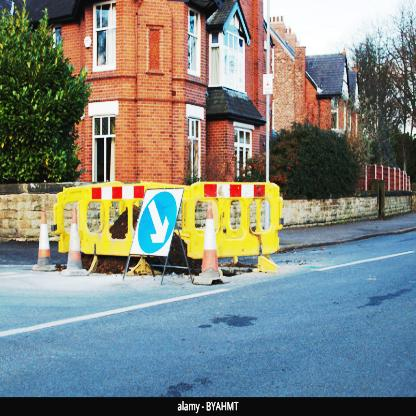Keep right: (137, 187, 181, 257)
